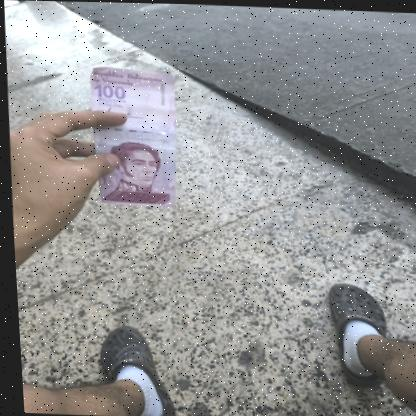vef_front: (84, 64, 180, 207)
